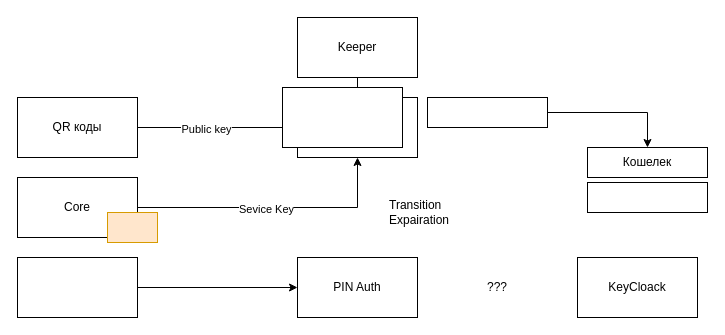
The diagram is 725 pixels wide and 335 high, and some of its shapes have lost their labels. The shapes that lost their labels are listed below. From the top down, each one's centre as x and y in pixels, then its label:
At (487,112): "JWT".
At (647,197): "Reports".
At (132,227): "Redis Cache".
At (77,287): "COBRA".
